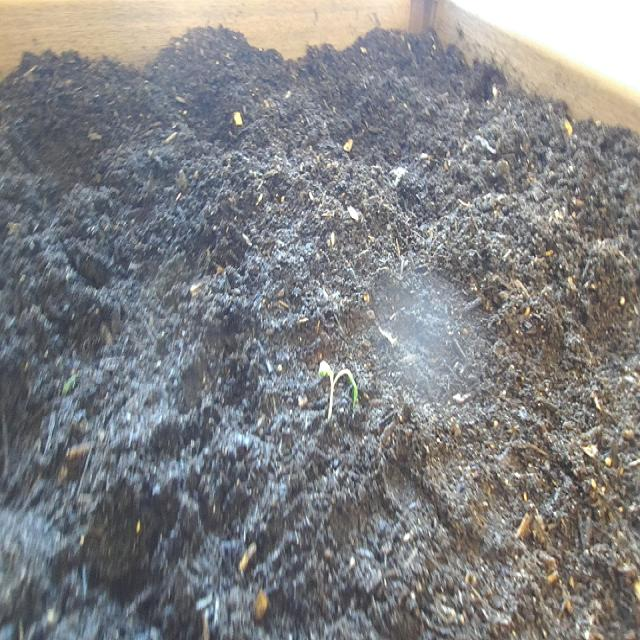Unhealthy: (308, 349, 367, 438)
